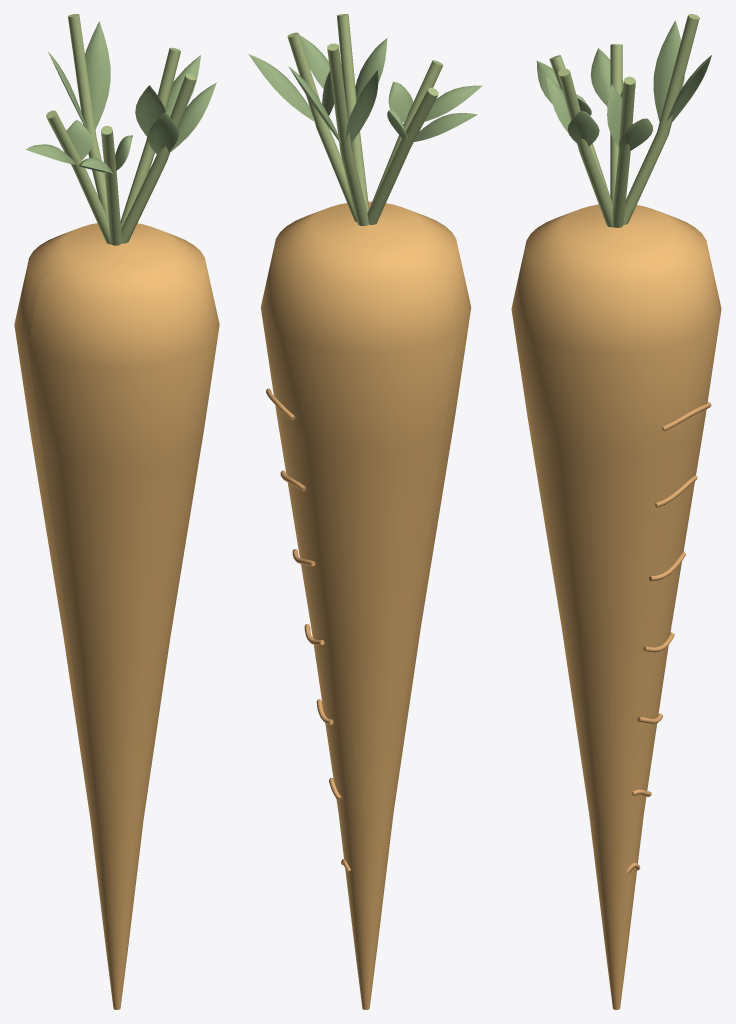
The model's file is carrot.glb.
The picture shows the model from 3 angles, left to right: view 1: azimuth 30°, elevation 25°; view 2: azimuth 150°, elevation 25°; view 3: azimuth 270°, elevation 25°; orthographic projection. The views are drawn at different scales.
Parts seen in each view (by area): view 1: library-carrot-tapered-root, library-carrot-product-carrot-stalk, library-carrot-product-carrot-leaf; view 2: library-carrot-tapered-root, library-carrot-product-carrot-stalk, library-carrot-product-carrot-leaf, library-carrot-product-carrot-root-lines; view 3: library-carrot-tapered-root, library-carrot-product-carrot-stalk, library-carrot-product-carrot-leaf, library-carrot-product-carrot-root-lines.
Boxes of the visible parts, box(x1,y1,x2,y2) form: library-carrot-tapered-root: box(14, 223, 219, 1009); library-carrot-product-carrot-stalk: box(46, 14, 196, 245); library-carrot-product-carrot-leaf: box(26, 21, 216, 173); library-carrot-tapered-root: box(260, 201, 471, 1009); library-carrot-product-carrot-stalk: box(287, 14, 443, 225); library-carrot-product-carrot-leaf: box(248, 34, 482, 143); library-carrot-product-carrot-root-lines: box(266, 388, 350, 872); library-carrot-tapered-root: box(511, 204, 721, 1009); library-carrot-product-carrot-stalk: box(549, 14, 699, 227); library-carrot-product-carrot-leaf: box(536, 20, 711, 151); library-carrot-product-carrot-root-lines: box(625, 402, 711, 873).
Bounding box in the file's own units: 0.0518 × 0.2393 × 0.046.
